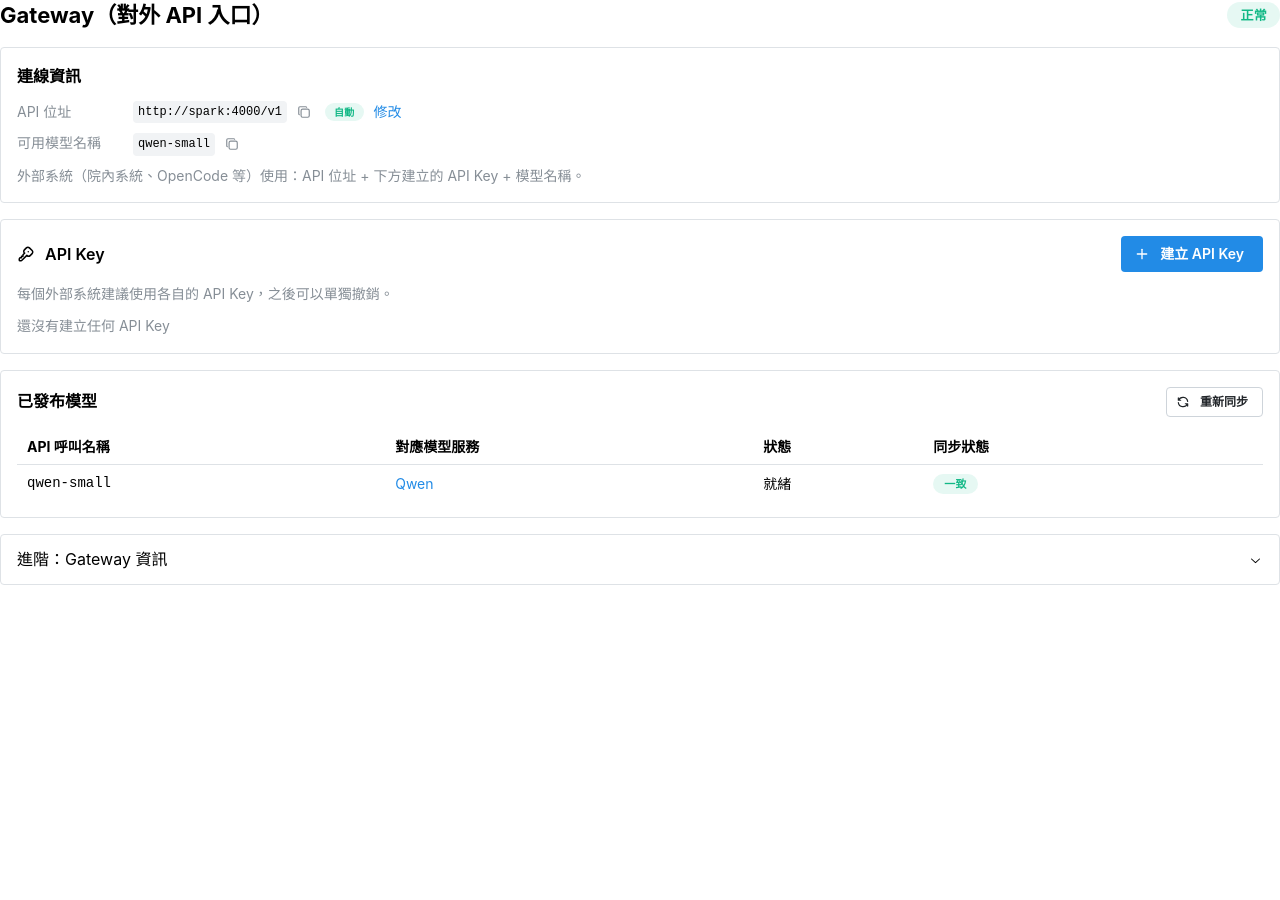
GatewayPage › creates a key, shows it once, requires acknowledgement, then lists it masked
The width and height of the screenshot is (1280, 900).
Expected: the text "還沒有建立任何 API Key" is shown, [17, 317, 170, 334]
Expected: the text "qwen-small" next to "可用模型名稱" is shown, [138, 137, 210, 151]
Click the button "建立 API Key" at (1192, 254), box [1121, 236, 1263, 272]
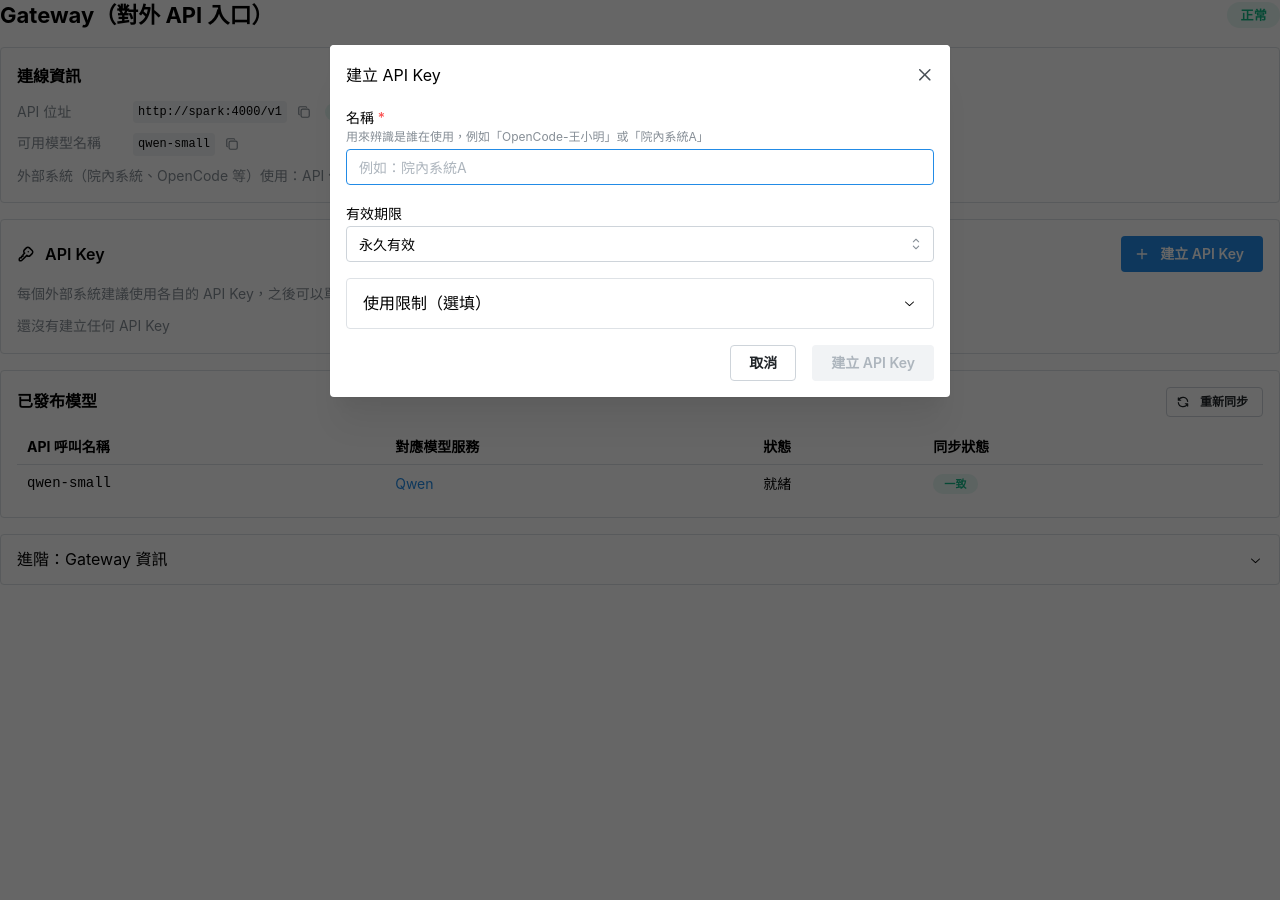
Type "院內系統A" into the field with placeholder "例如：院內系統A" at (640, 167), box [346, 149, 934, 185]
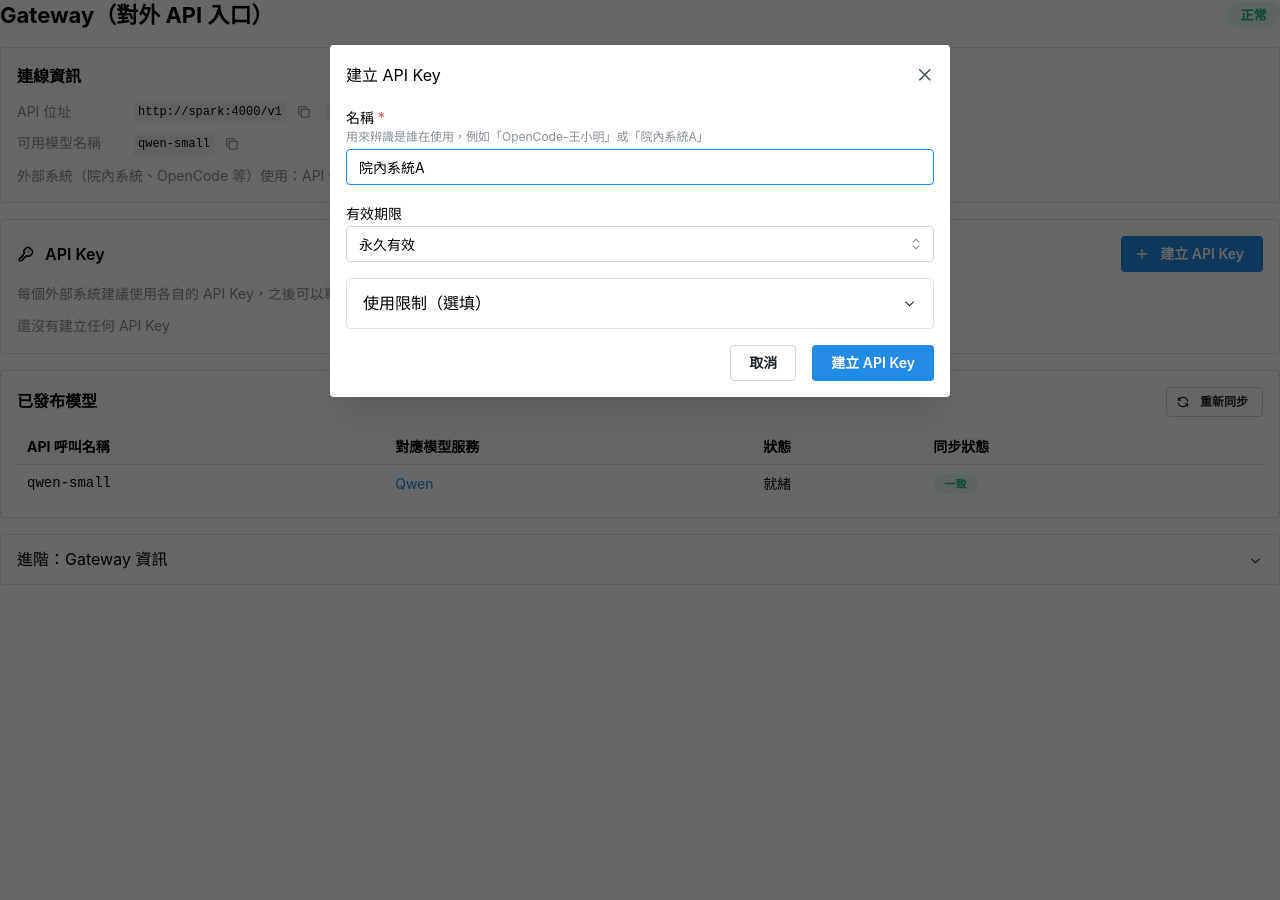
Click the button "建立 API Key" at (873, 363), box [812, 345, 934, 381]
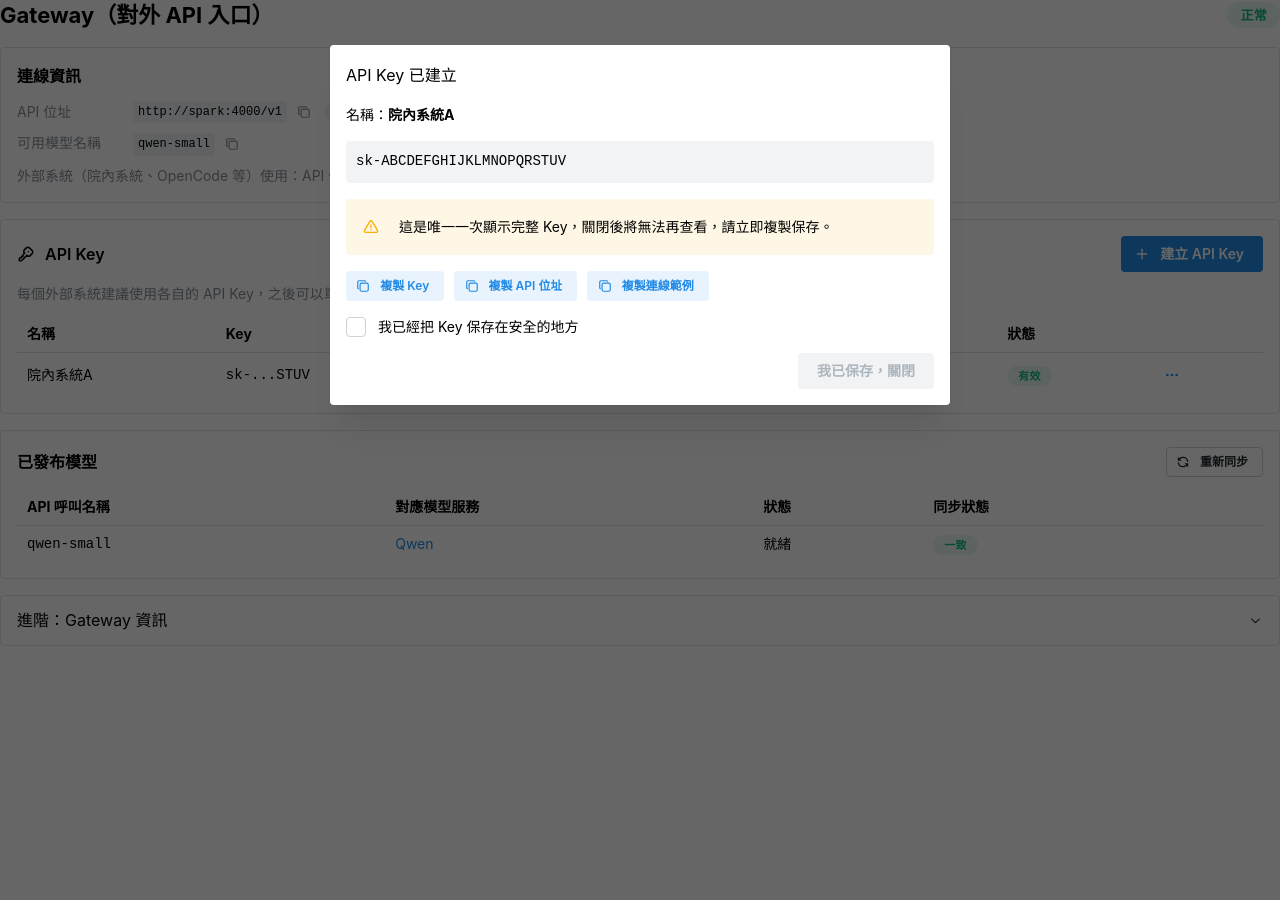
Result: the text with test id "new-key" reads "sk-ABCDEFGHIJKLMNOPQRSTUV" at [356, 153, 566, 169]
Result: the text "這是唯一一次顯示完整 Key，關閉後將無法再查看，請立即複製保存。" is shown at [399, 218, 834, 235]
Result: the button with test id "close-created" is disabled at [798, 353, 934, 389]
Click the checkbox with test id "saved-confirm" at (356, 327), box [346, 317, 366, 337]
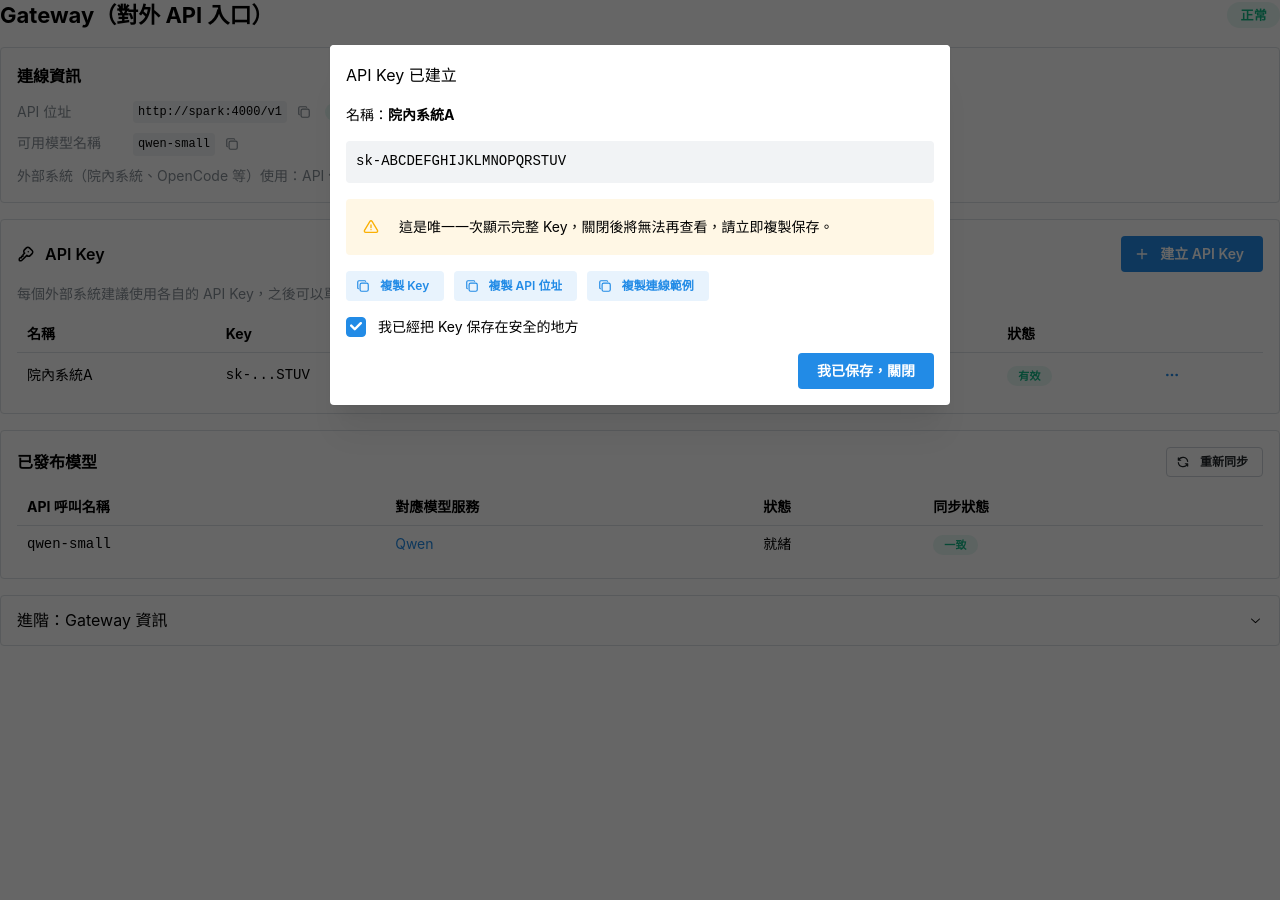
Result: the button with test id "close-created" is enabled
Click the button with test id "close-created" at (866, 371), box [798, 353, 934, 389]
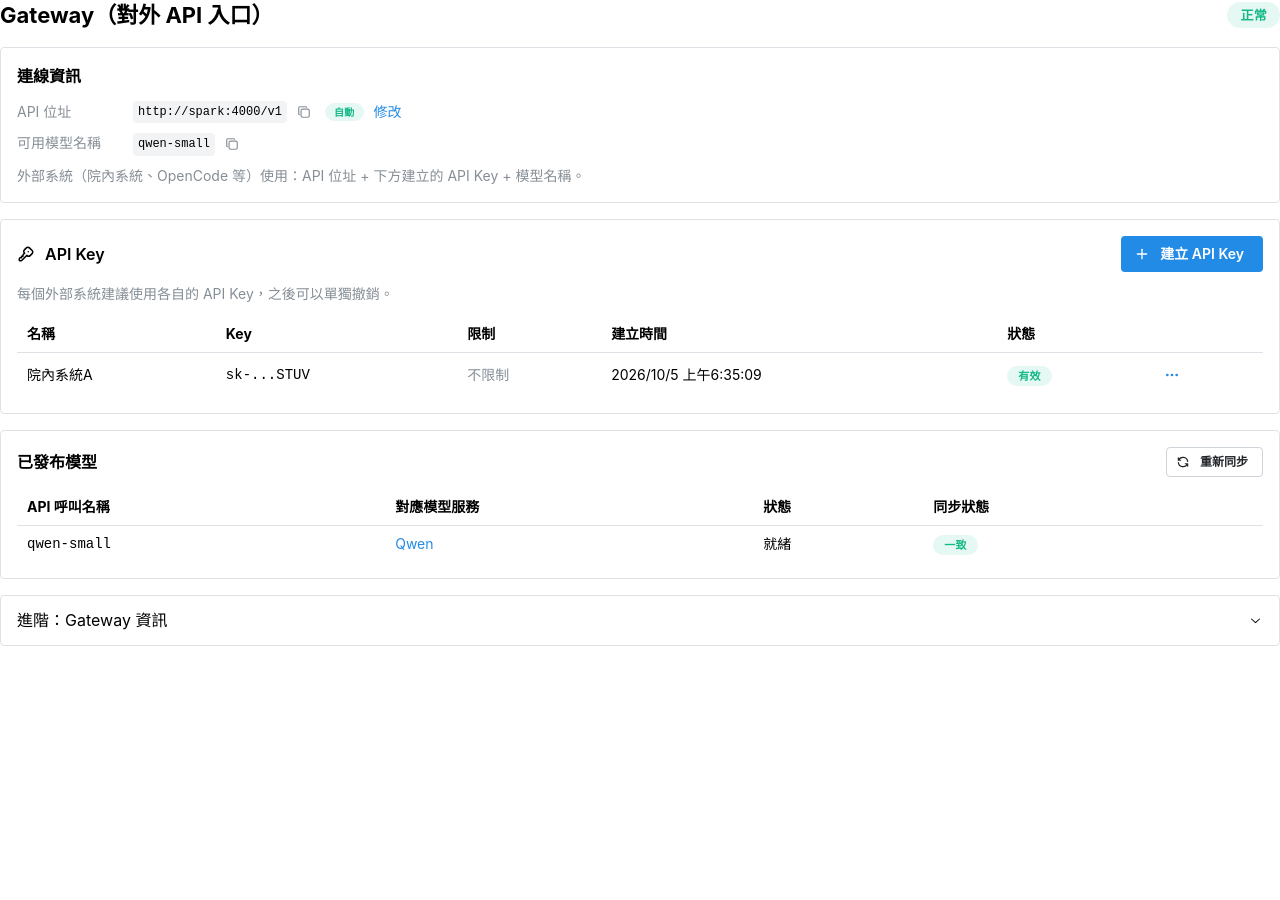
Result: the text "sk-...STUV" is shown at [226, 367, 310, 383]
Result: the text with test id "new-key" is gone
Result: the text "sk-ABCDEFGHIJKLMNOPQRSTUV" is gone
